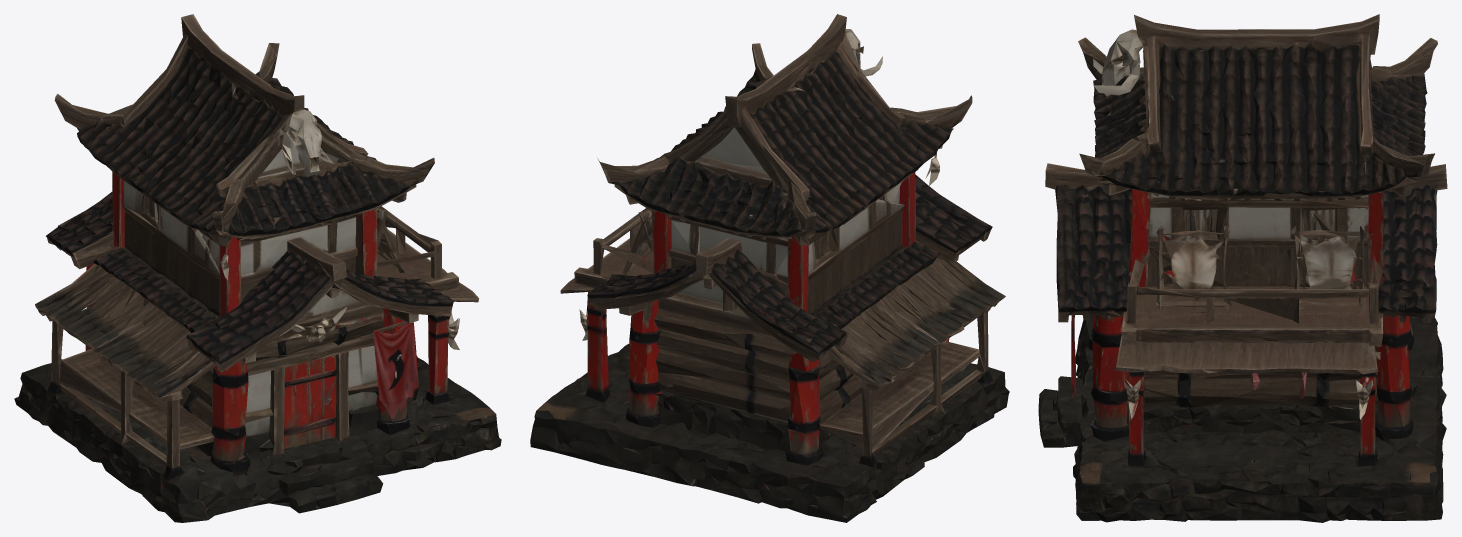
The model's file is house_shop_b.glb.
3 renders of one model, left to right at view 1: azimuth 30°, elevation 25°; view 2: azimuth 150°, elevation 25°; view 3: azimuth 270°, elevation 25°, orthographic. The views are drawn at different scales.
Parts seen in each view (by area): view 1: house_shop_b; view 2: house_shop_b; view 3: house_shop_b.
Part boxes in pixels (x1,y1,x2,y2): house_shop_b: (14,14,501,522); house_shop_b: (530,14,1009,522); house_shop_b: (1038,14,1447,522).
Size of the model in its own units: 8.49 by 9 by 8.12.
1 material, 1 textured.
